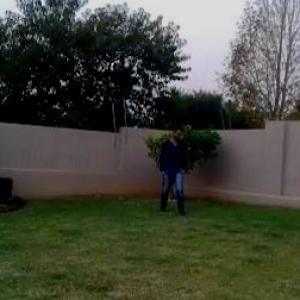follow: (160, 119, 190, 219)
